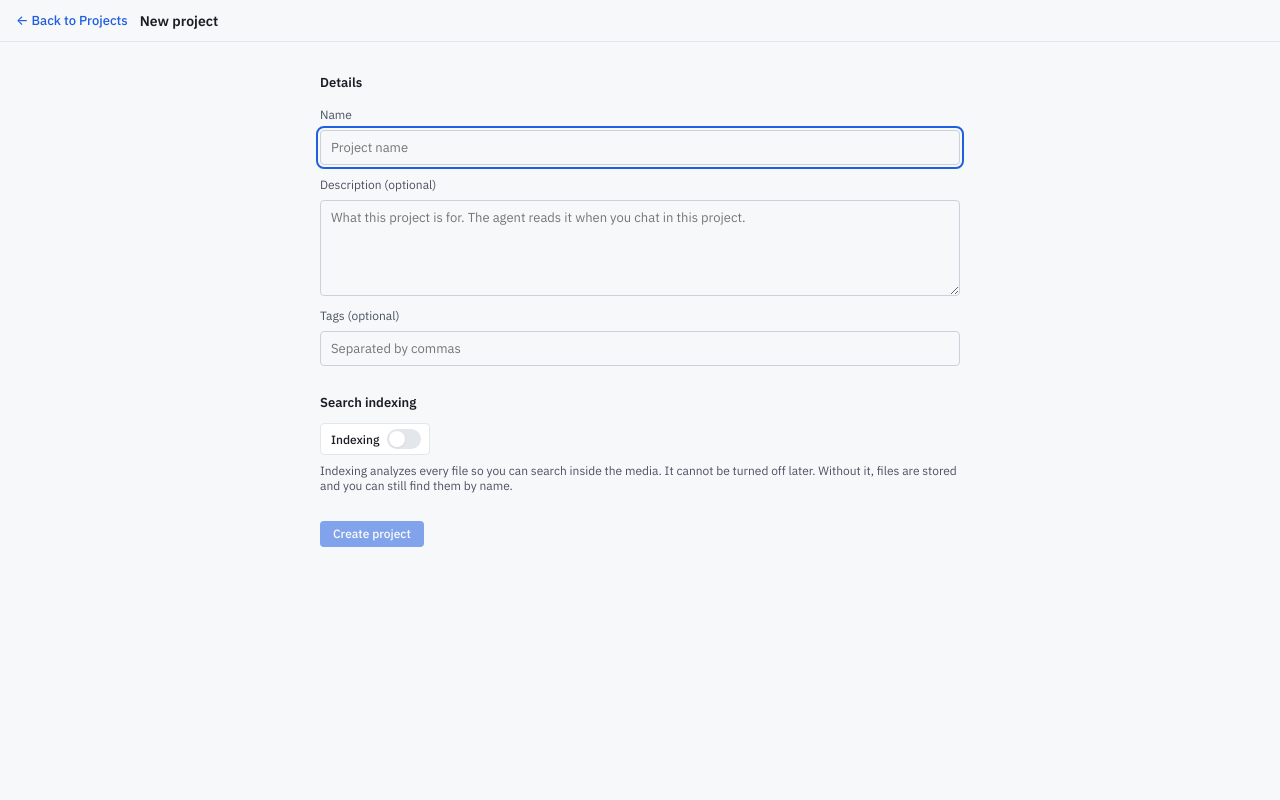
ProjectsSurface create form › Back to Projects returns to the project that was showing, creating nothing
Click the button "← Back to Projects" at (72,20), box [16,8,128,33]
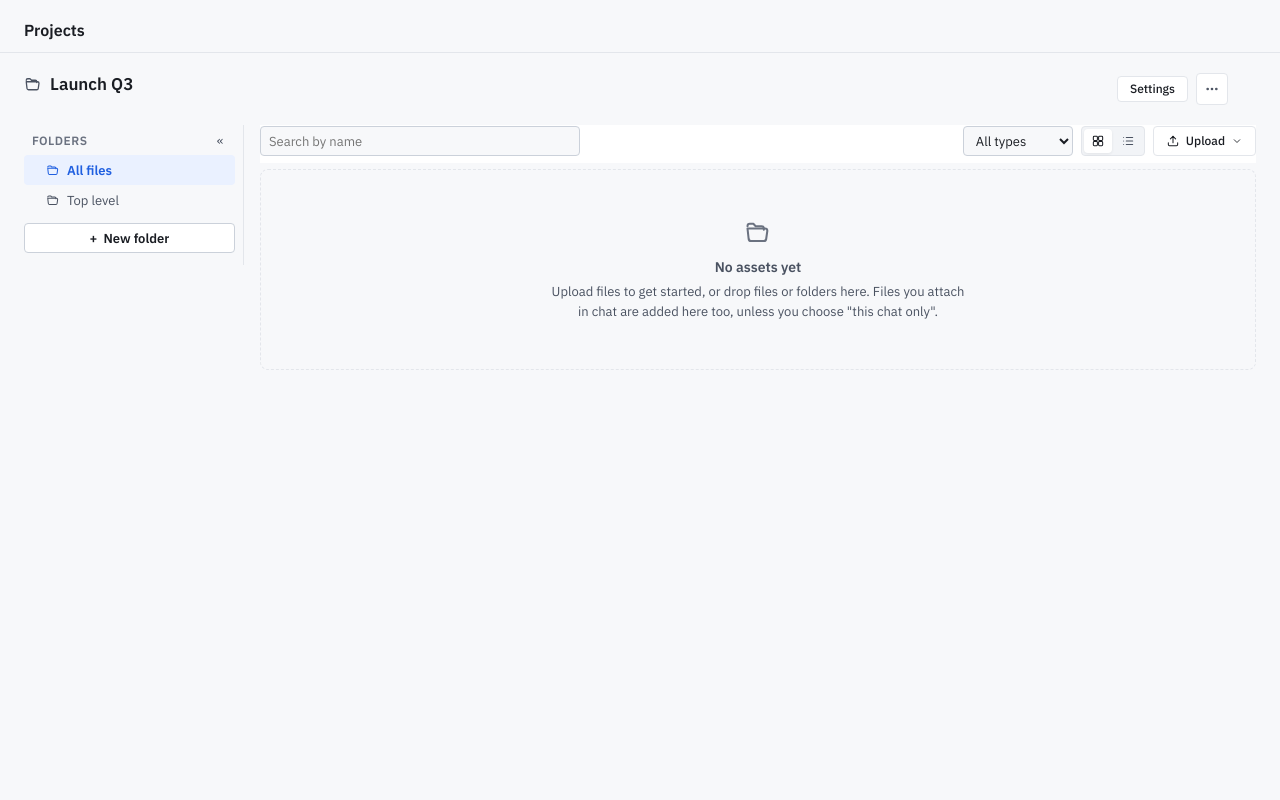
Check: the element with test id "project-create-page" is gone
Check: the heading "Launch Q3" is shown, box [50,73,133,95]
